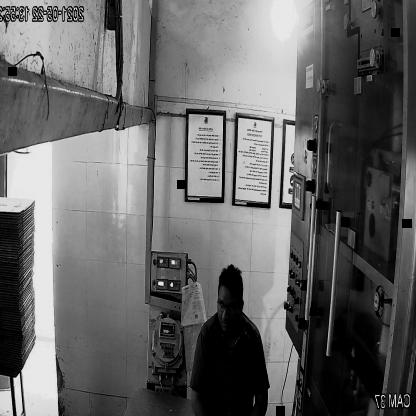goggles: (215, 293, 246, 317)
